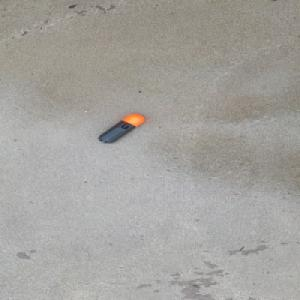PlasticPart: (97, 113, 146, 144)
